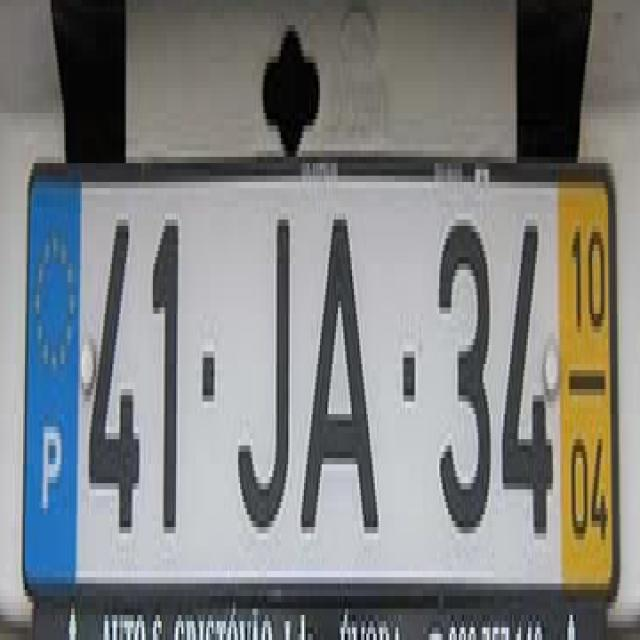EU: (26, 174, 613, 590)
Portugal: (24, 180, 82, 580)
